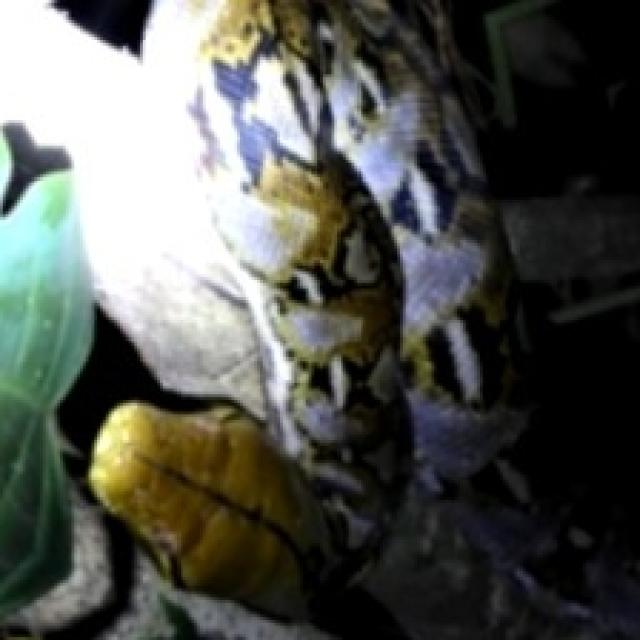reticulated python: (54, 0, 520, 614)
